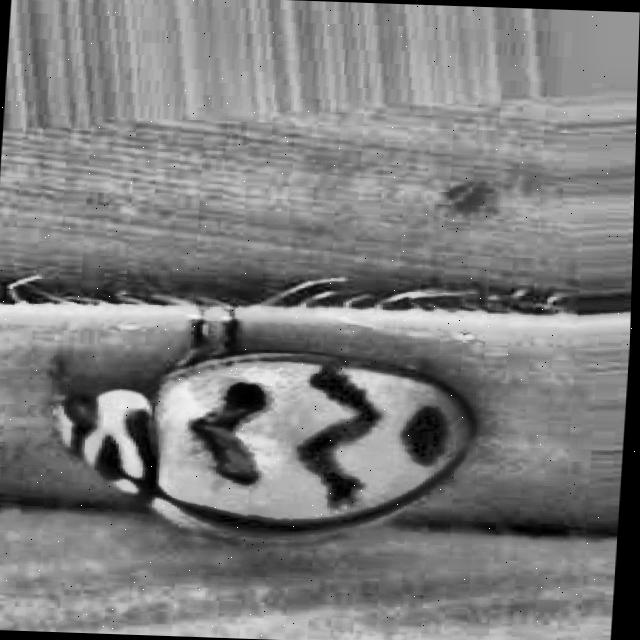Asian-Lady-beetle: (43, 232, 504, 558)
